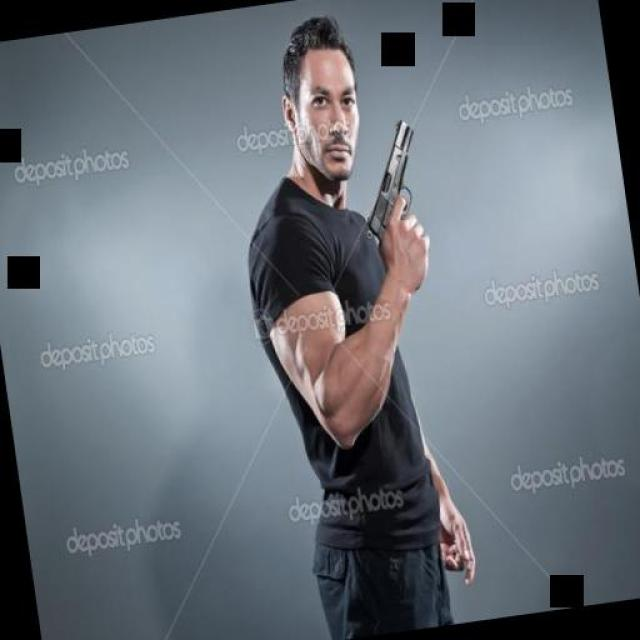gun: (348, 112, 447, 278)
